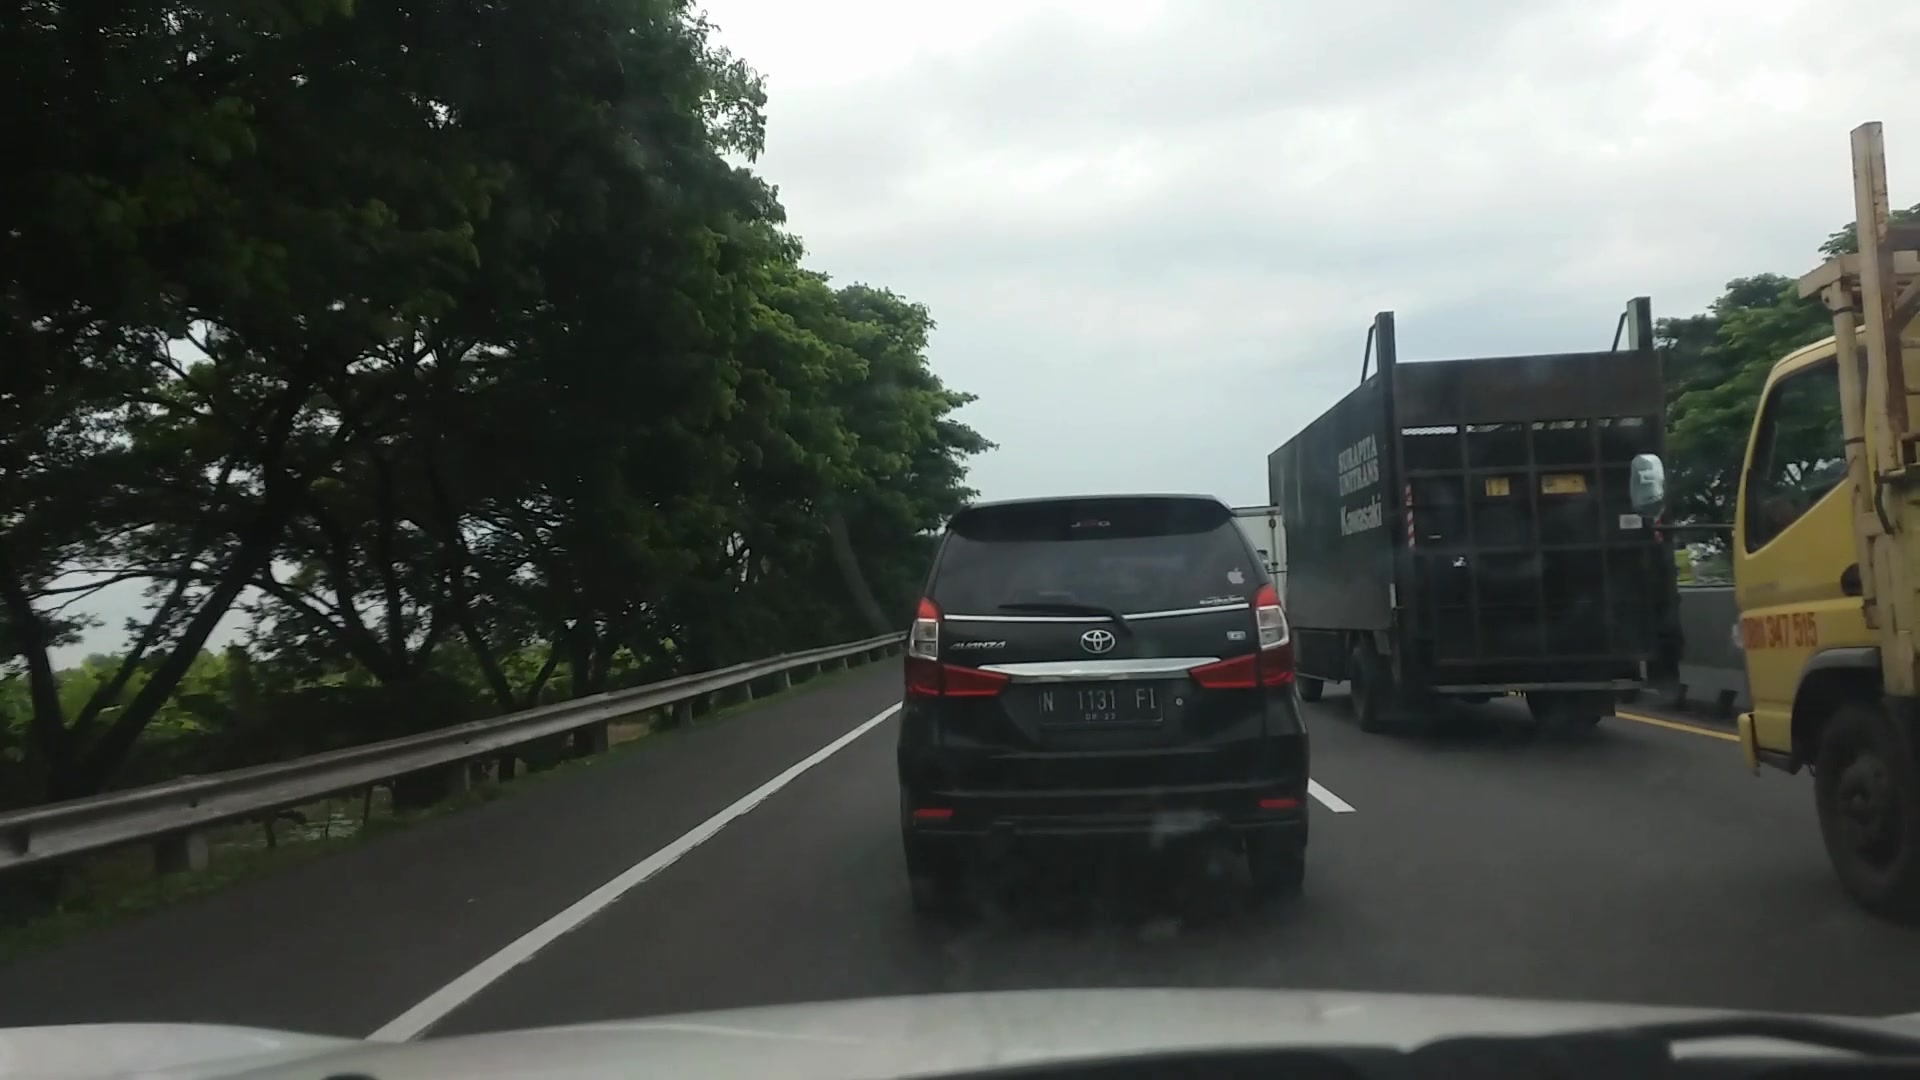plate_positive: (1039, 684, 1162, 727)
